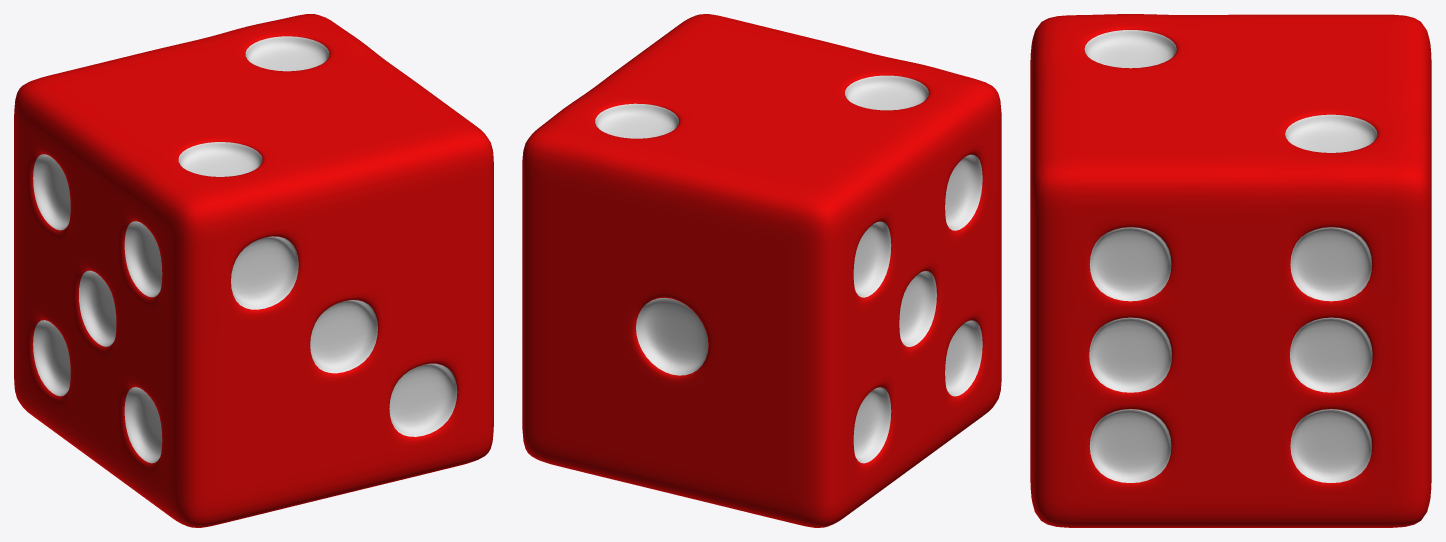
File: dice_2.glb
The picture shows the model from 3 angles, left to right: view 1: azimuth 30°, elevation 25°; view 2: azimuth 150°, elevation 25°; view 3: azimuth 270°, elevation 25°; orthographic projection. The views are drawn at different scales.
Parts seen in each view (by area): view 1: Dice.001; view 2: Dice.001; view 3: Dice.001.
Boxes of the visible parts, x1,y1,x2,y2 form: Dice.001: (14, 14, 493, 527); Dice.001: (522, 14, 1001, 527); Dice.001: (1030, 14, 1431, 527).
Bounding box in the file's own units: 2 × 2 × 2.
